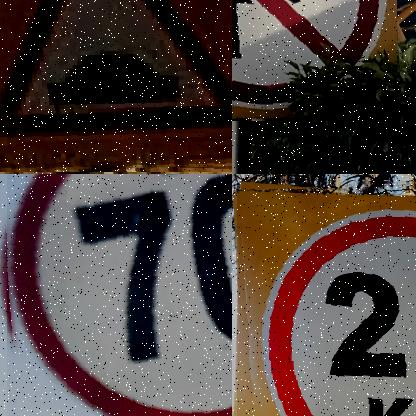No Parking: (232, 0, 397, 120)
Speed Limit (20 kmph): (236, 176, 416, 416)
Speed Limit (70 kmph): (8, 174, 232, 416)
